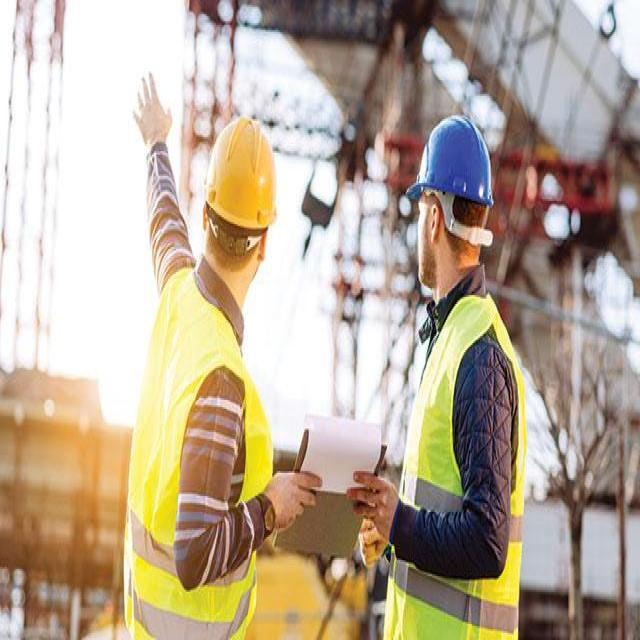Reflective-Jacket: (118, 276, 272, 638), (379, 291, 531, 640)
Safety-Helmet: (403, 110, 499, 219), (203, 108, 282, 236)
